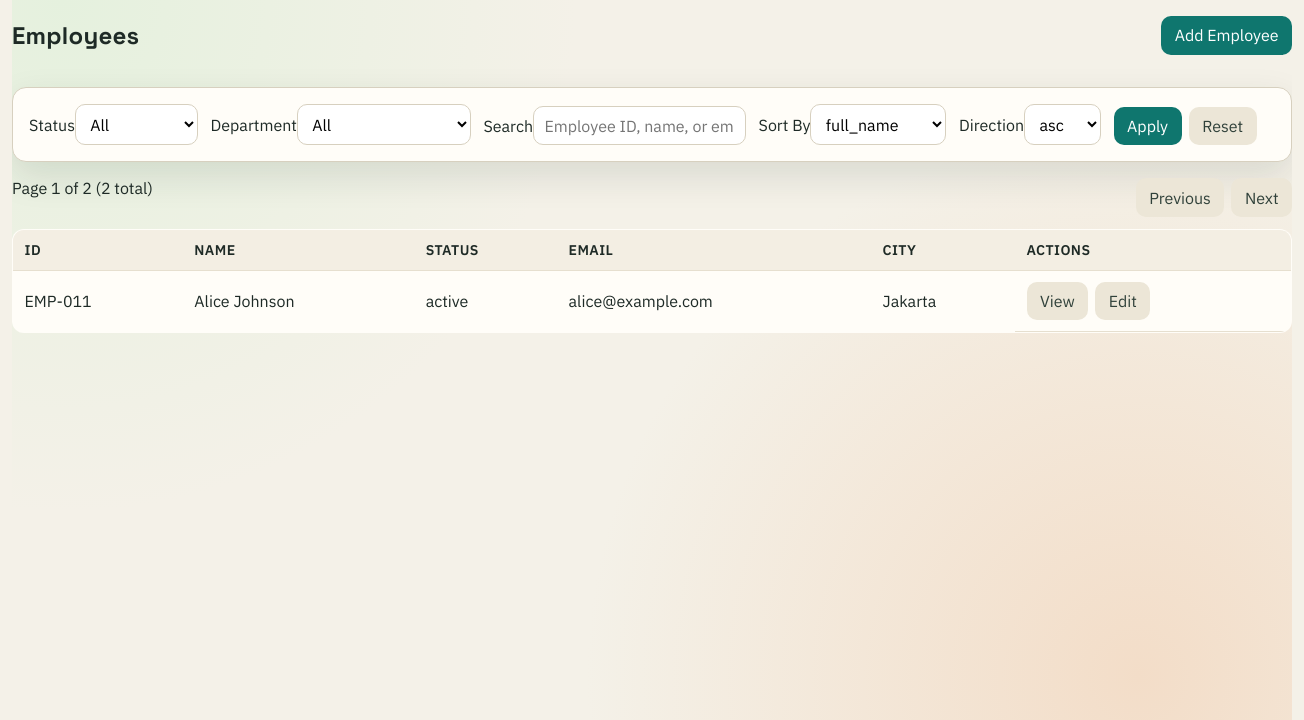
Test: EmployeesPage pagination › loads next page using pagination metadata
Expected: the text "Alice Johnson" is shown, [183,270,414,332]
Expected: the text "Page 1 of 2 (2 total)" is shown, [12,178,153,198]
Click the button "Next".
click(1262, 198)  # box [1232,178,1292,217]
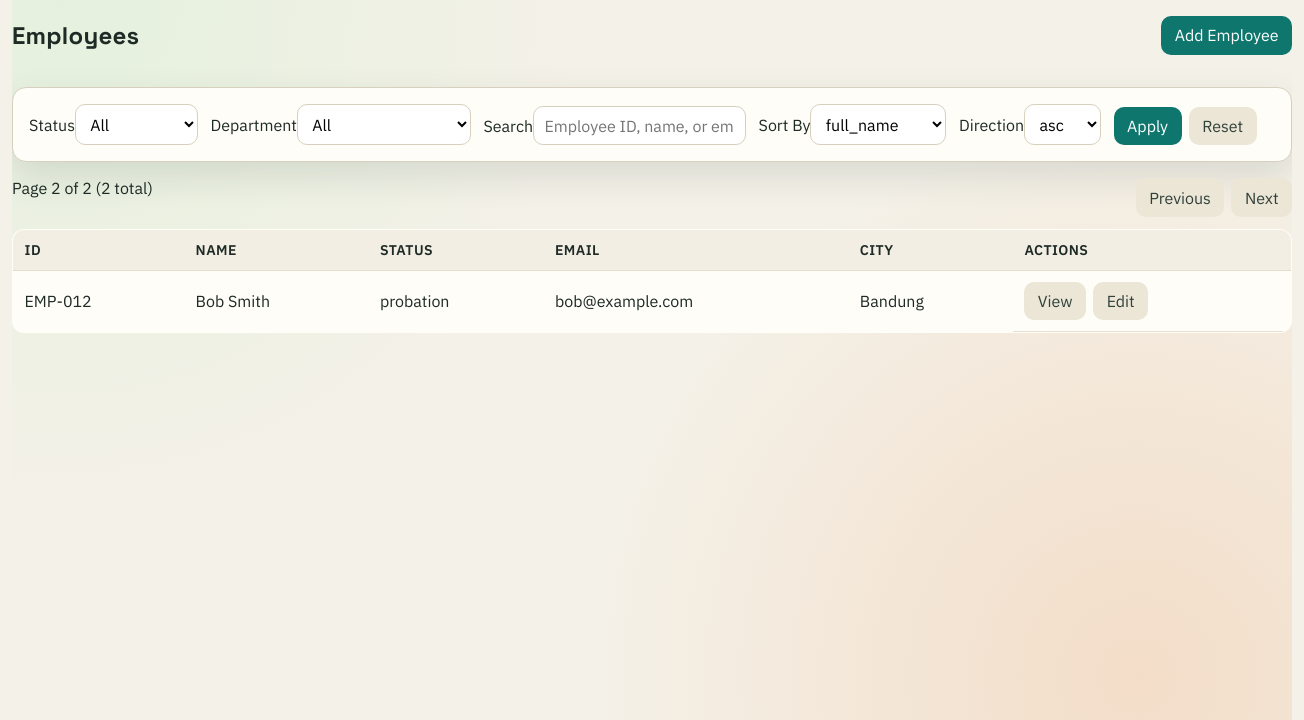
Result: the text "Bob Smith" is shown at [184,270,368,332]
Result: the text "Page 2 of 2 (2 total)" is shown at [12,178,153,198]
